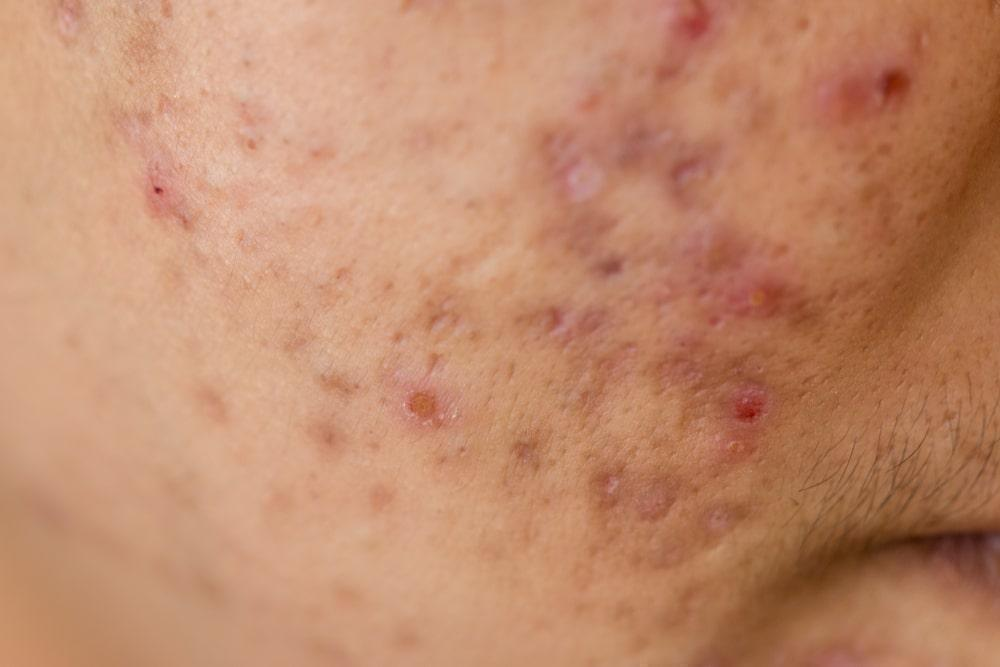acne_scars: (535, 140, 640, 219), (658, 146, 746, 211)
papular: (629, 8, 749, 114), (789, 60, 874, 165), (710, 255, 796, 333)
